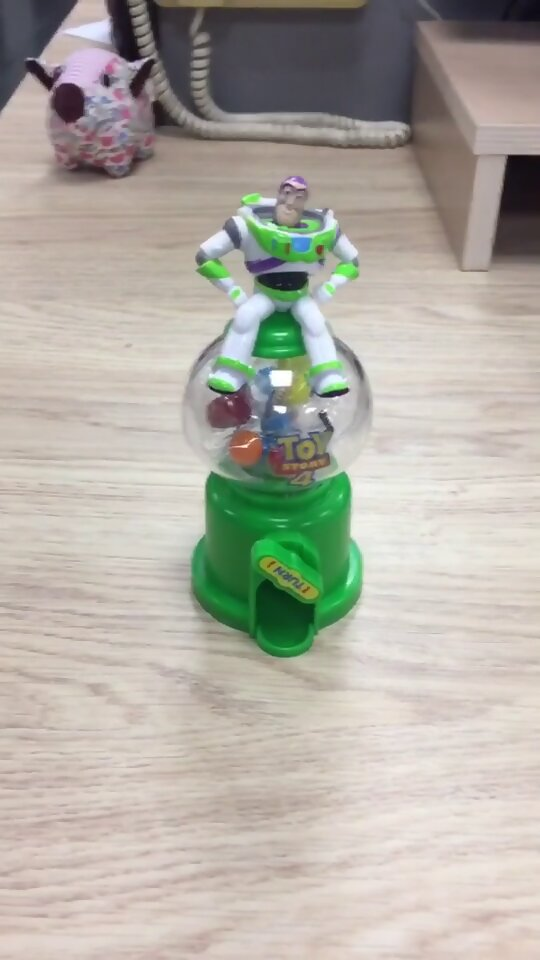buzz: (183, 164, 380, 659)
